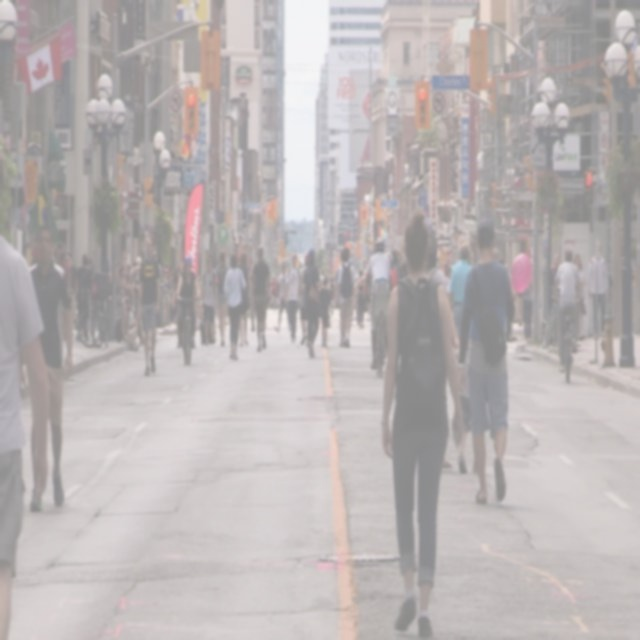pessoa: (378, 201, 466, 639), (0, 148, 52, 639), (15, 214, 76, 522), (454, 210, 510, 506), (393, 210, 454, 477), (450, 254, 490, 478), (448, 237, 474, 399), (364, 234, 392, 374), (552, 245, 582, 374), (136, 232, 160, 378), (492, 244, 524, 344), (174, 250, 202, 358), (115, 241, 142, 347), (222, 252, 247, 363), (248, 240, 270, 355), (586, 238, 610, 342), (335, 243, 357, 349), (301, 242, 319, 360), (174, 262, 198, 350), (74, 252, 94, 346), (283, 250, 301, 344), (336, 245, 352, 348), (214, 249, 230, 348), (571, 252, 587, 350), (236, 250, 252, 346), (318, 272, 336, 350), (202, 254, 217, 346), (382, 228, 408, 280), (273, 260, 291, 335), (296, 252, 310, 348), (54, 238, 77, 278), (354, 266, 366, 331), (522, 282, 534, 346), (247, 258, 256, 334), (268, 272, 283, 310), (330, 276, 338, 318), (550, 252, 562, 276)
